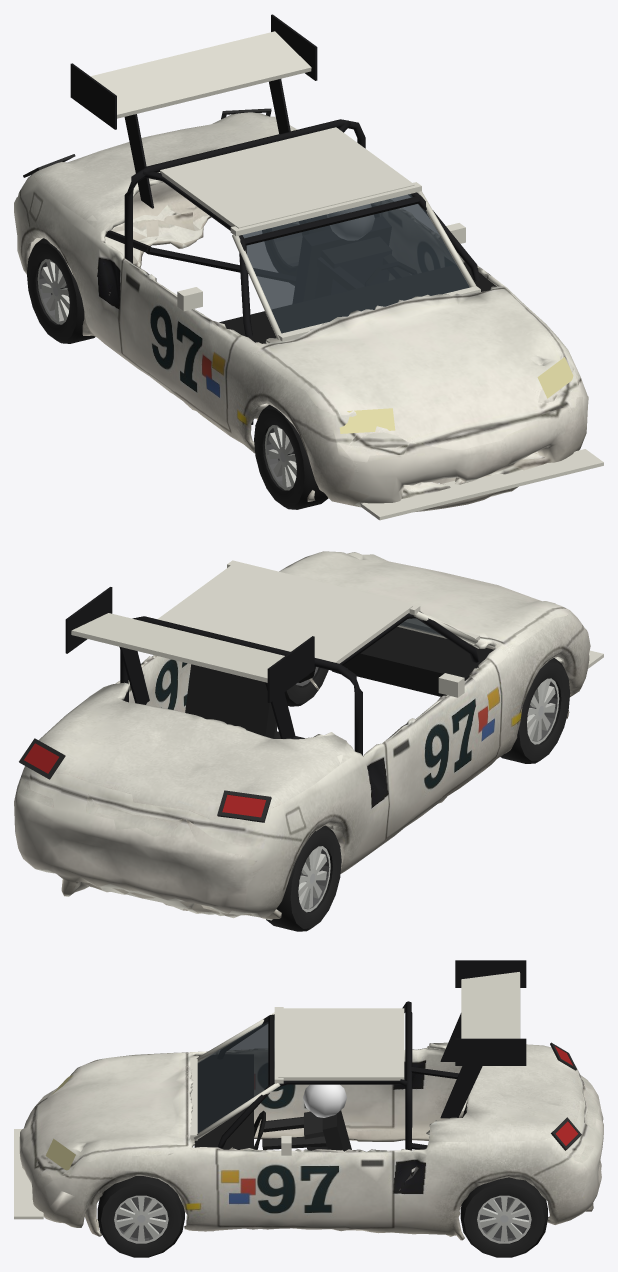
3 views of the same model, one above another, from view 1: azimuth 30°, elevation 25°; view 2: azimuth 150°, elevation 25°; view 3: azimuth 270°, elevation 25° (orthographic). The views are drawn at different scales.
Parts seen in each view (by area): view 1: body, wheel_fr, wheel_rr, wheel_rl; view 2: body, wheel_rr, wheel_fr, wheel_fl; view 3: body, wheel_fl, wheel_rl.
Boxes of the visible parts, left/top/right/bottom form: body: left=14, top=14, right=603, bottom=520; wheel_fr: left=254, top=405, right=328, bottom=509; wheel_rr: left=27, top=238, right=95, bottom=343; wheel_rl: left=262, top=215, right=330, bottom=285; body: left=14, top=551, right=603, bottom=920; wheel_rr: left=266, top=825, right=341, bottom=931; wheel_fr: left=500, top=658, right=570, bottom=763; wheel_fl: left=284, top=667, right=328, bottom=706; body: left=14, top=960, right=603, bottom=1240; wheel_fl: left=97, top=1176, right=184, bottom=1257; wheel_rl: left=460, top=1177, right=547, bottom=1257.
Bounding box in the file's own units: 1.76 × 1.55 × 3.98.
2 materials, 1 textured.
